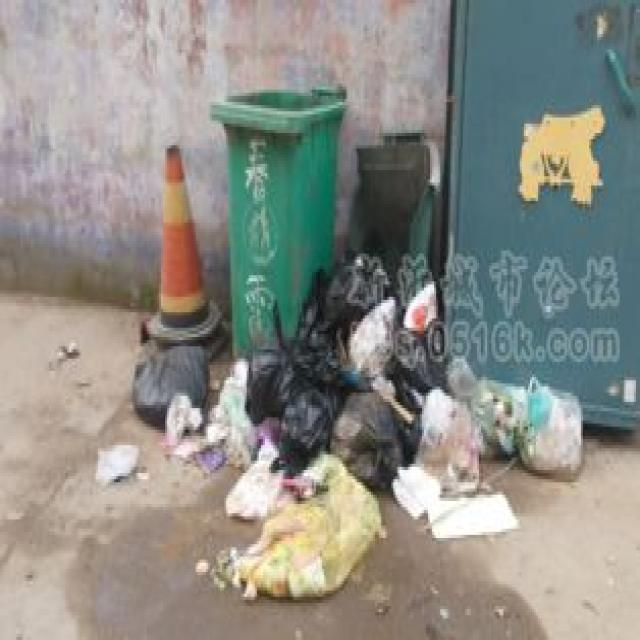garbage: (90, 250, 579, 597)
garbage_bin: (208, 80, 344, 356)
